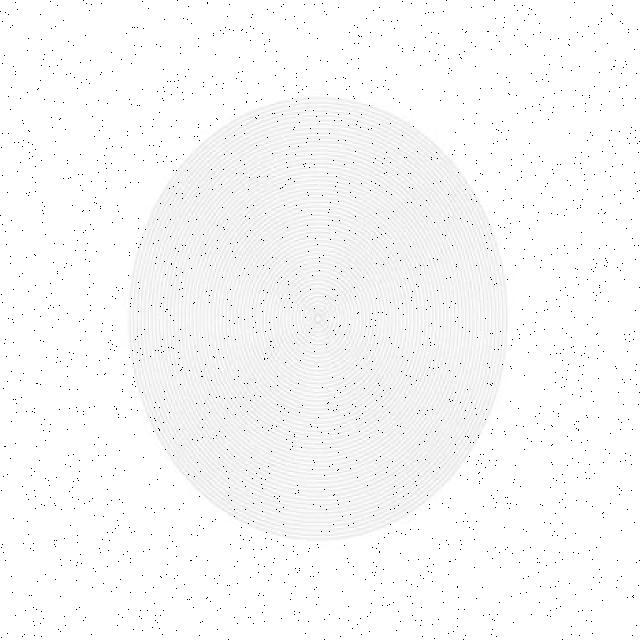Circle: (131, 98, 506, 537)
